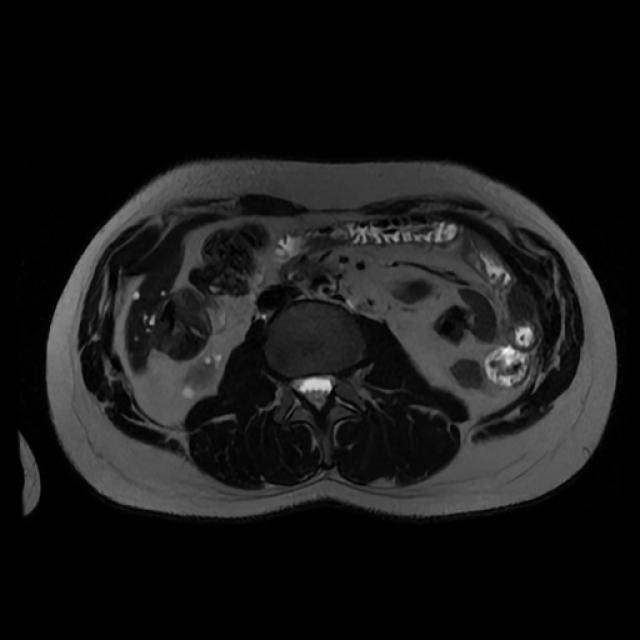sag: (180, 351, 225, 402)
